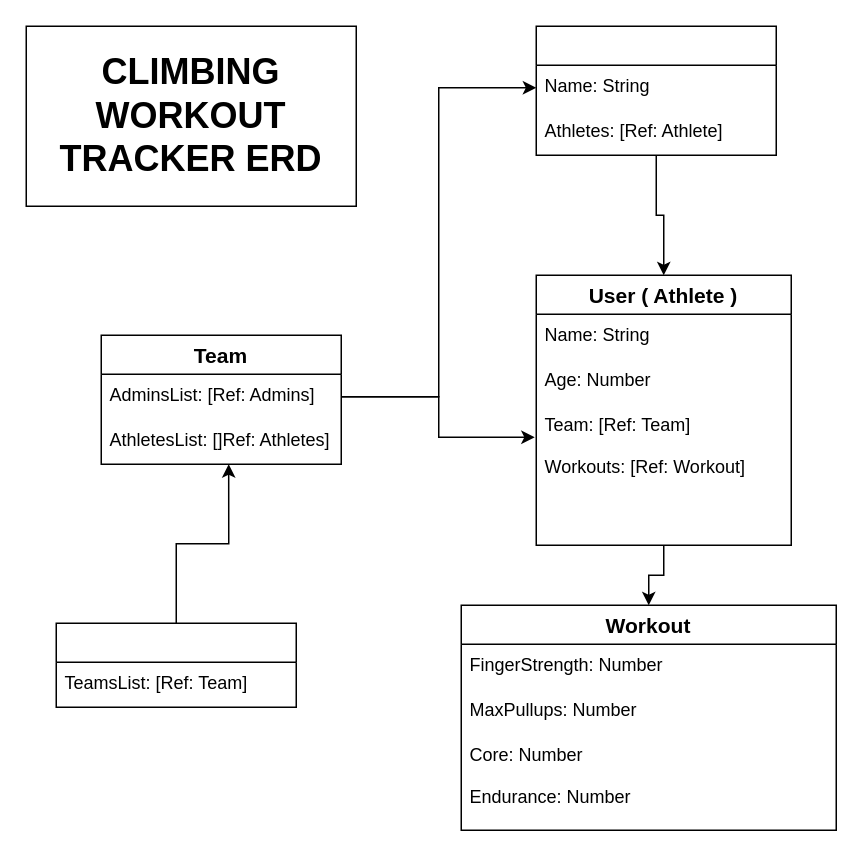
This 863x861 diagram has some shape labels left out. The shapes that lost their labels are listed below. From the top down, each one's box as (x1, y1, x2, y2) in pixels, then its label:
(535, 25, 776, 155): User ( Coach / Admin)
(55, 622, 296, 707): Gym
